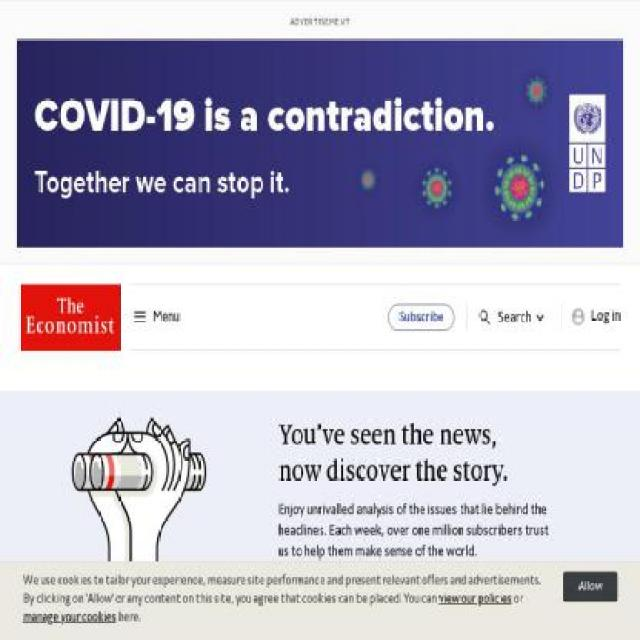button: (20, 284, 120, 351), (278, 586, 451, 620), (388, 304, 454, 331), (562, 572, 618, 602), (477, 307, 548, 328), (133, 306, 179, 328), (571, 307, 620, 327)
